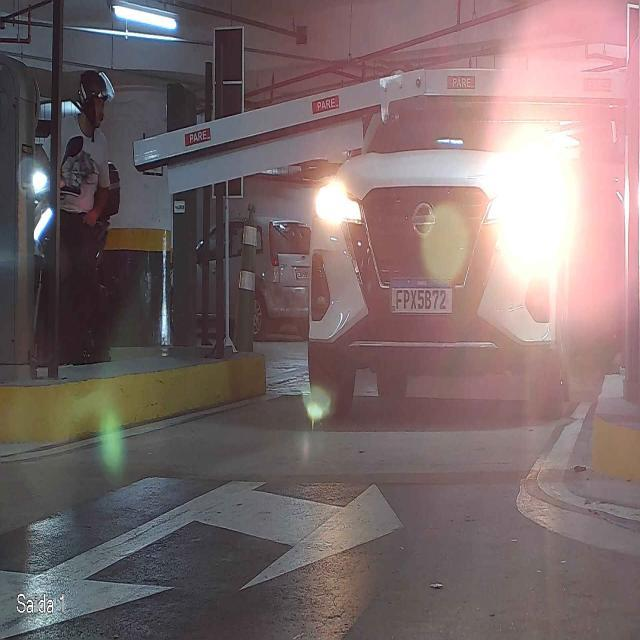mercosul_plate: (390, 278, 455, 314)
